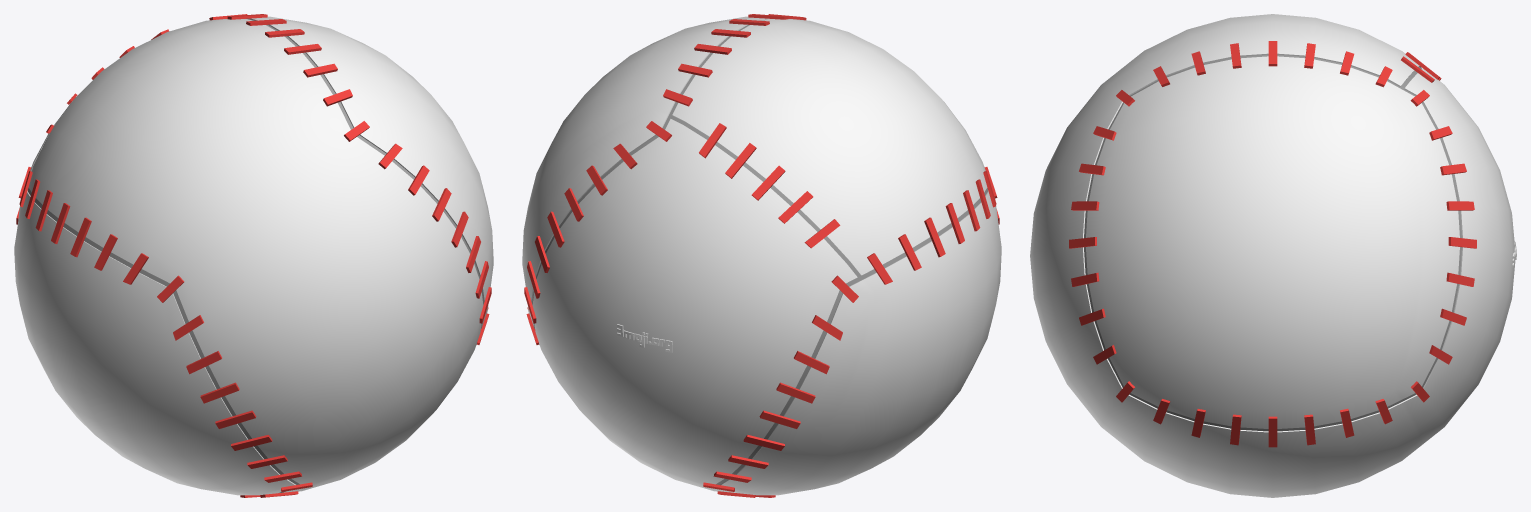
Rendered from baseball.glb.
The picture shows the model from 3 angles, left to right: view 1: azimuth 30°, elevation 25°; view 2: azimuth 150°, elevation 25°; view 3: azimuth 270°, elevation 25°; orthographic projection.
Visible parts, largest first — view 1: Roundcube.066; view 2: Roundcube.066; view 3: Roundcube.066.
Part boxes in pixels (left/top/right/bottom): Roundcube.066: left=14, top=14, right=493, bottom=497; Roundcube.066: left=522, top=14, right=1001, bottom=497; Roundcube.066: left=1030, top=14, right=1516, bottom=497.
Size of the model in its own units: 2 by 2.01 by 2.
1 material, 1 textured.
